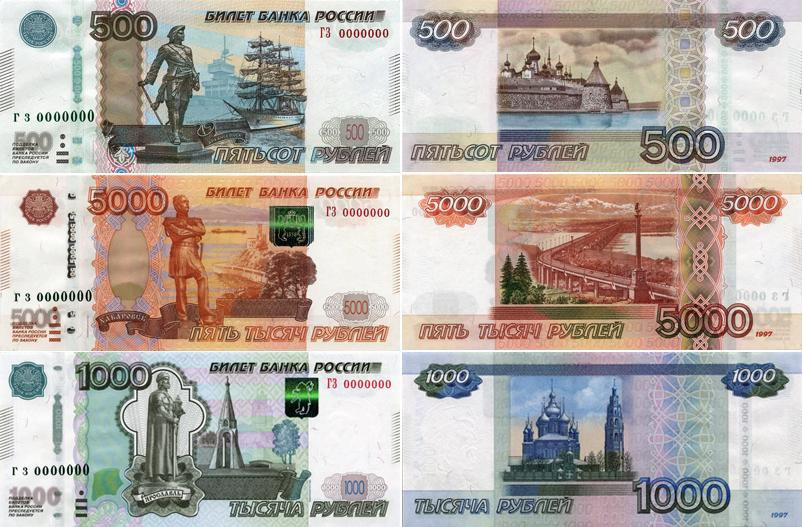cash: (401, 352, 803, 527), (1, 175, 400, 351), (402, 173, 801, 349), (1, 353, 400, 527), (401, 1, 803, 172), (1, 1, 400, 173)
